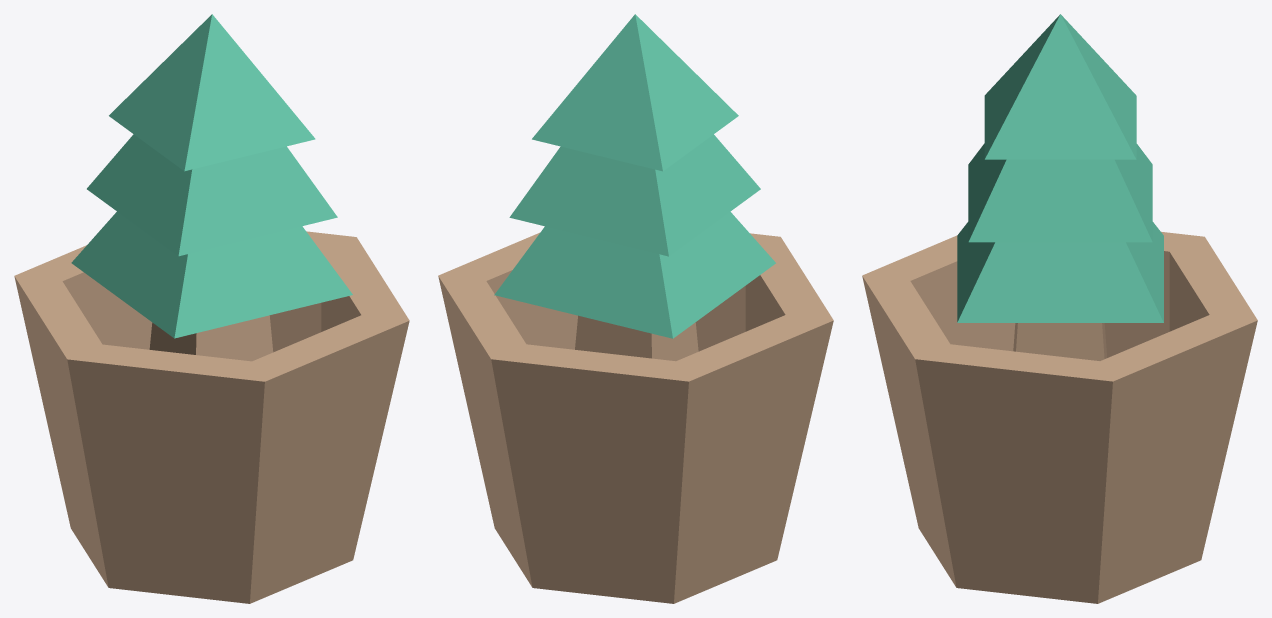
Rendered from plantSmall1.glb.
3 views of the same model, side by side, from view 1: azimuth 30°, elevation 25°; view 2: azimuth 150°, elevation 25°; view 3: azimuth 270°, elevation 25° (orthographic).
Visible parts, largest first — view 1: plantSmall1; view 2: plantSmall1; view 3: plantSmall1.
Boxes of the visible parts, <box> form: plantSmall1: <box>14,14,409,603</box>; plantSmall1: <box>438,14,833,603</box>; plantSmall1: <box>862,14,1257,603</box>.
Bounding box in the file's own units: 0.0947 × 0.14 × 0.0947.
